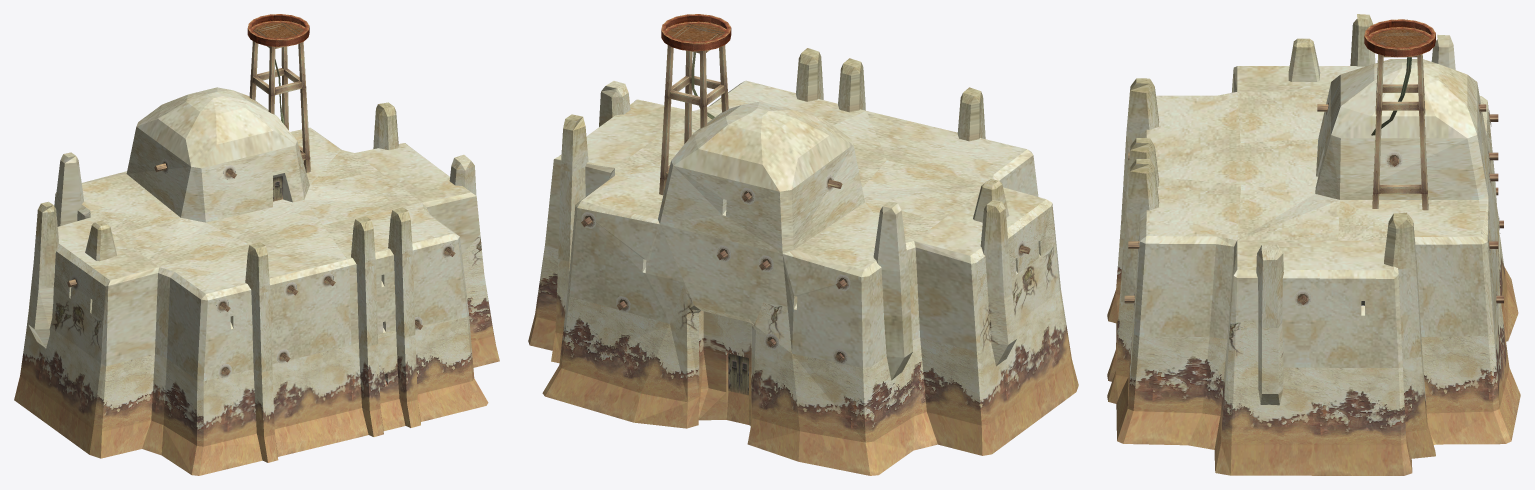
File: C2SMTOWNH1H.obj
3 renders of one model, left to right at view 1: azimuth 30°, elevation 25°; view 2: azimuth 150°, elevation 25°; view 3: azimuth 270°, elevation 25°, orthographic. The views are drawn at different scales.
Parts seen in each view (by area): view 1: Node 0, Node 17; view 2: Node 0, Node 17; view 3: Node 0, Node 17.
Boxes of the visible parts, x1=… form: Node 0: x1=14, y1=87, x2=499, y2=475; Node 17: x1=247, y1=14, x2=310, y2=172; Node 0: x1=528, y1=48, x2=1078, y2=475; Node 17: x1=659, y1=14, x2=731, y2=195; Node 0: x1=1107, y1=14, x2=1520, y2=475; Node 17: x1=1364, y1=19, x2=1435, y2=210.
Bounding box in the file's own units: 51.82 × 37.44 × 39.12.
Materials: 8 (8 with a texture image).
